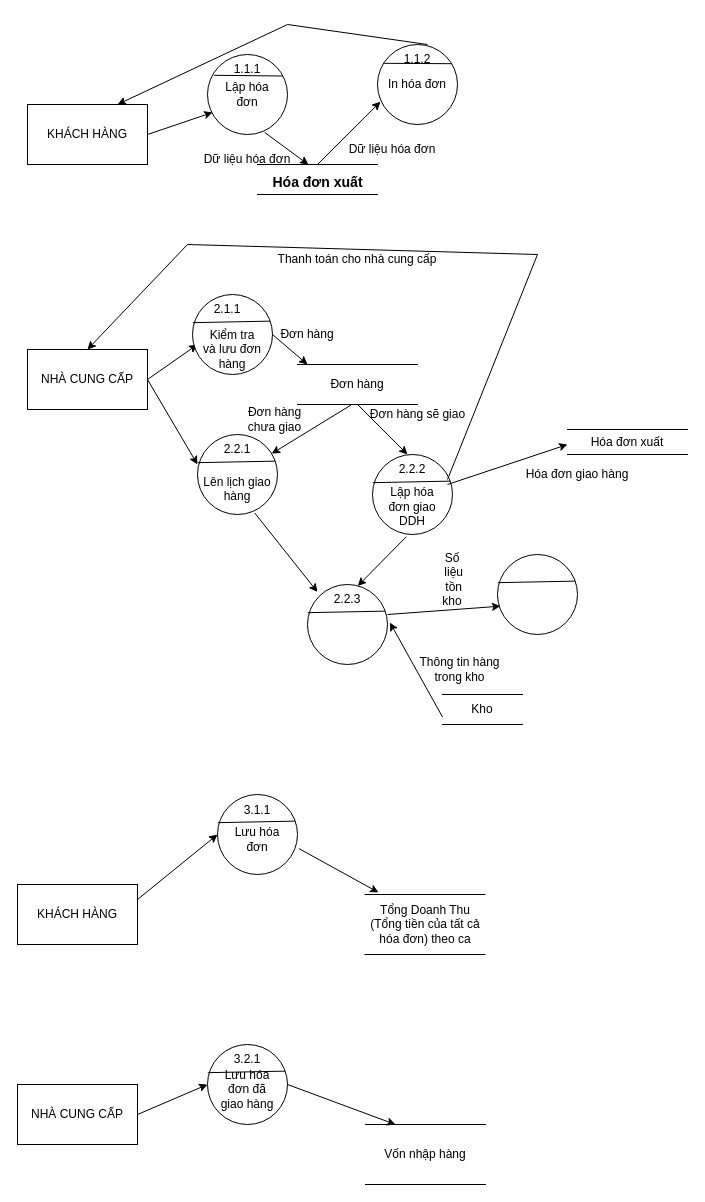
The diagram is 705 pixels wide and 1202 high, and some of its shapes have lost their labels. Here are the shapes that lost their labels. From the top down, the box of each, then its label:
(496, 554, 578, 634): 2.2.4 Kiểm kê tồn kho
(306, 584, 388, 664): Nhập hàng vào kho
